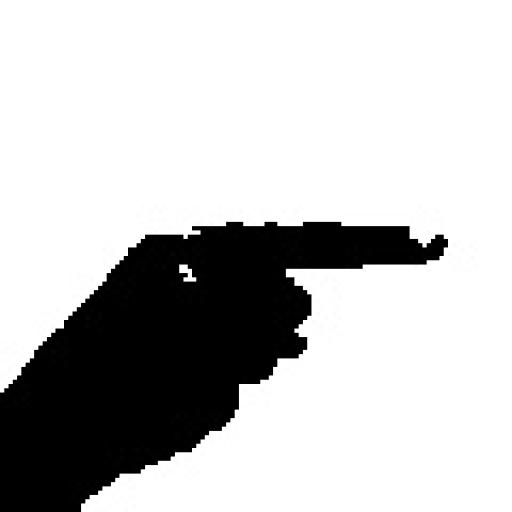index_right: (0, 217, 448, 414)
